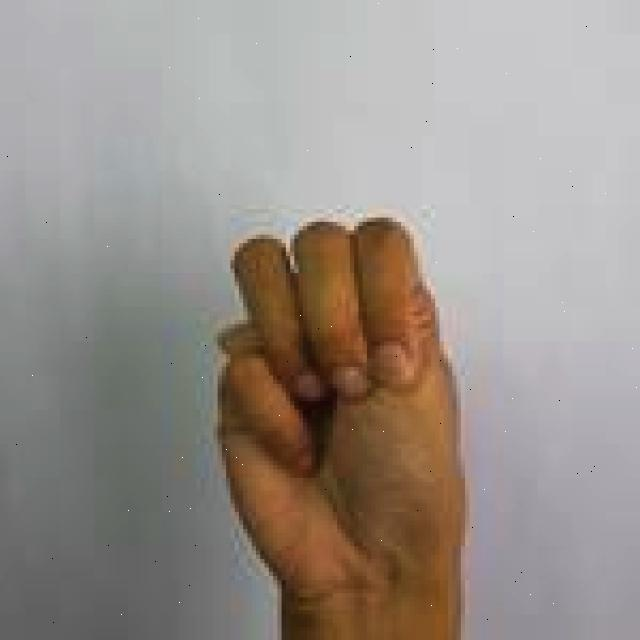M: (209, 210, 475, 640)
